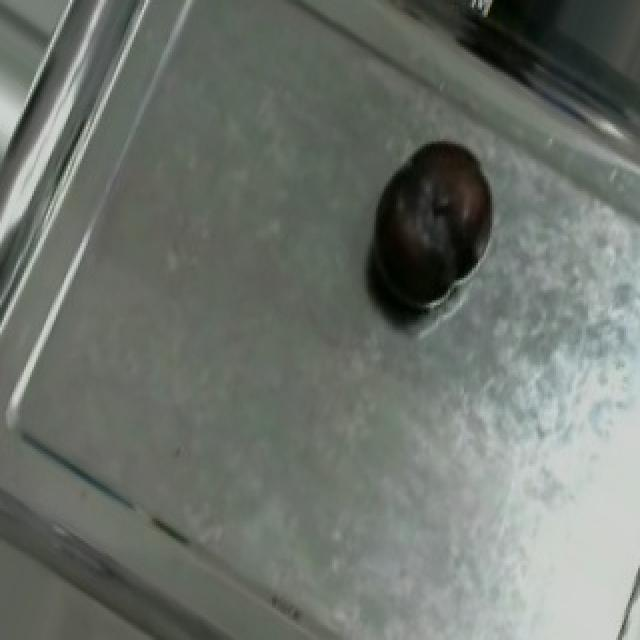Fruit: (348, 119, 514, 328)
